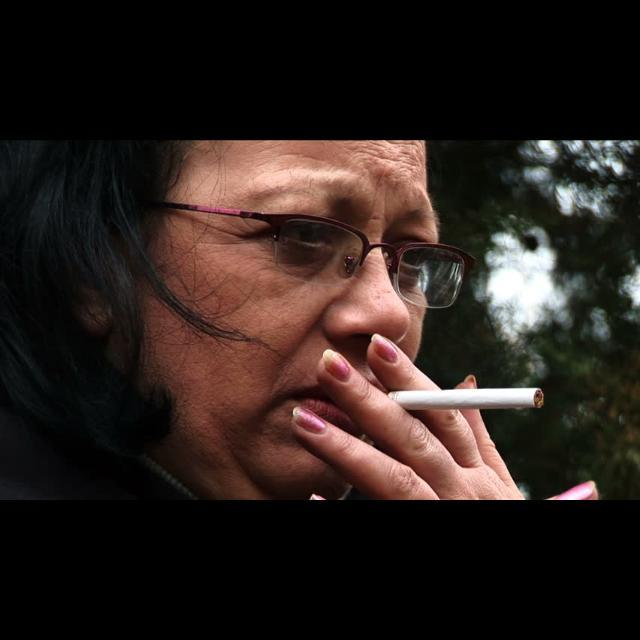rokok: (381, 380, 551, 424)
